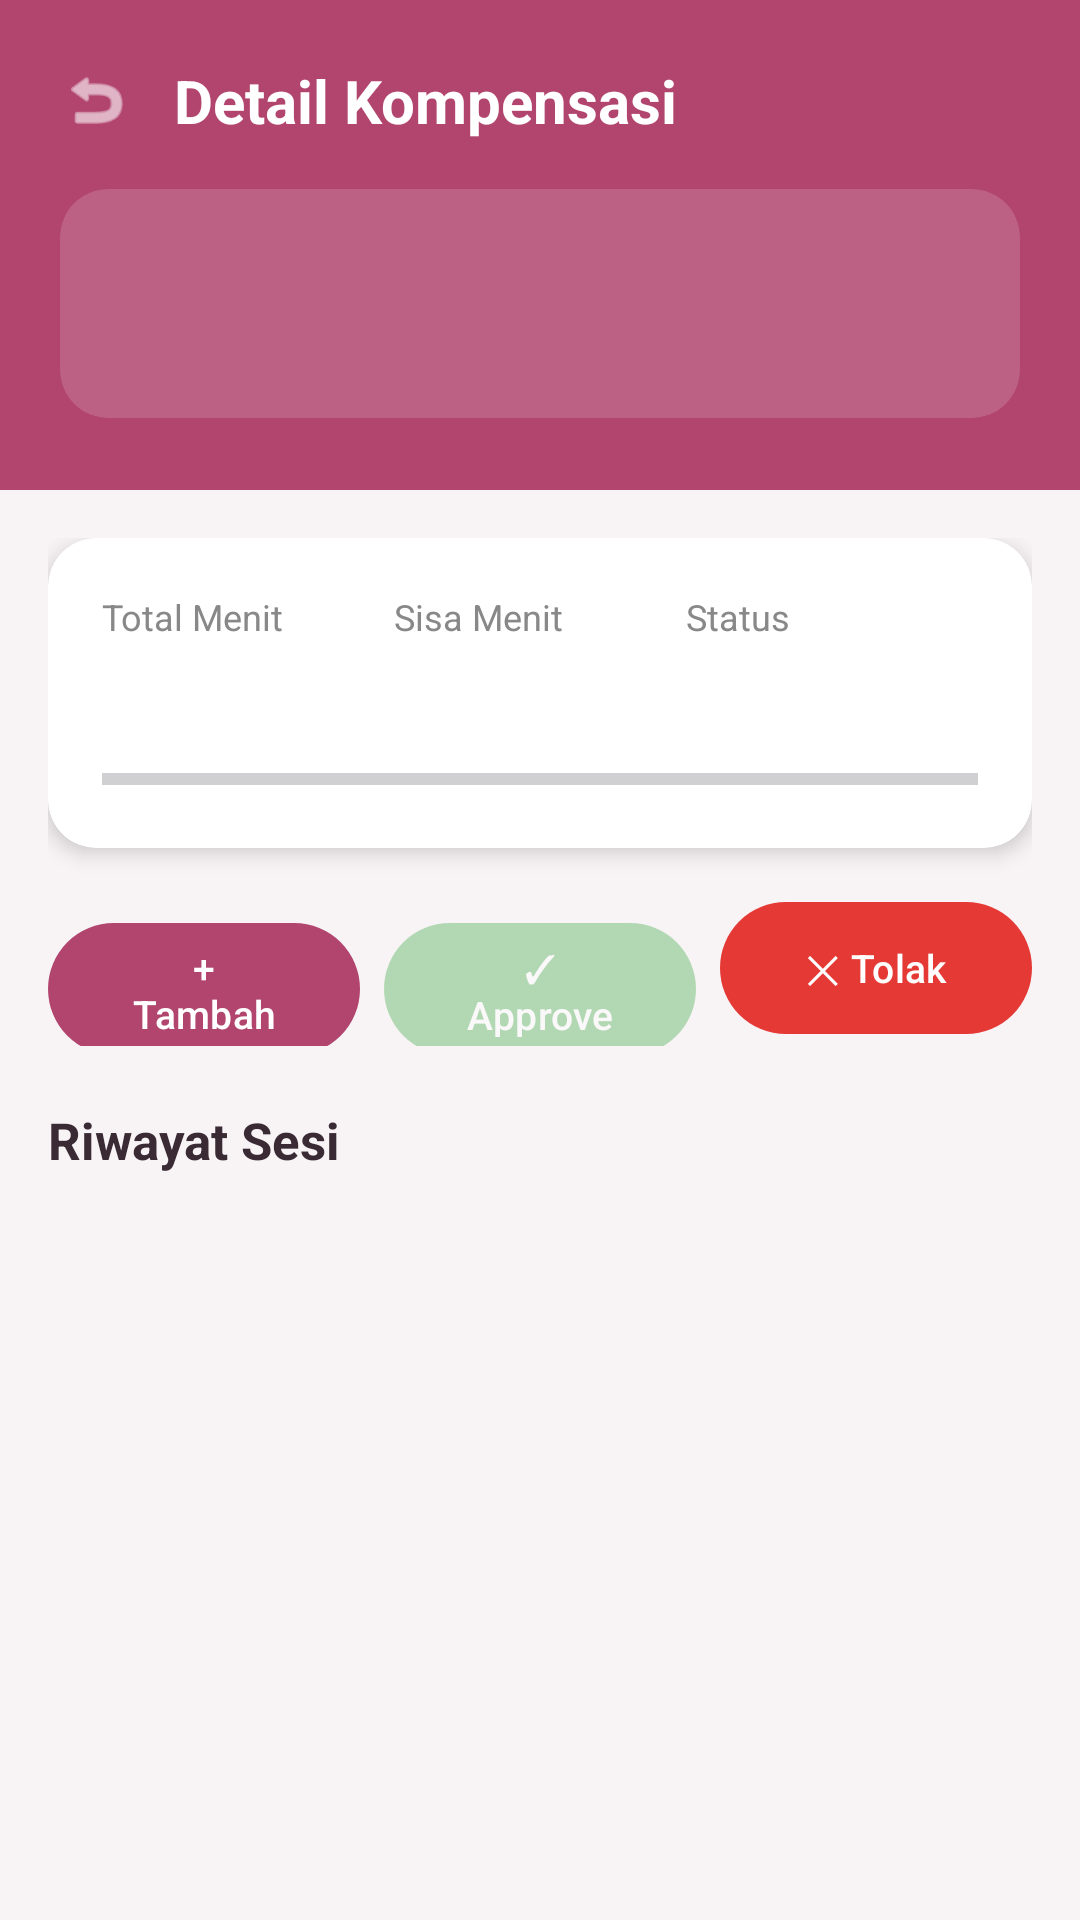

Icon bounding boxes for this 1080 × 1920 phone screenshot, format BBox(x1, y1, x2, y2):
revert: BBox(71, 77, 123, 124)
